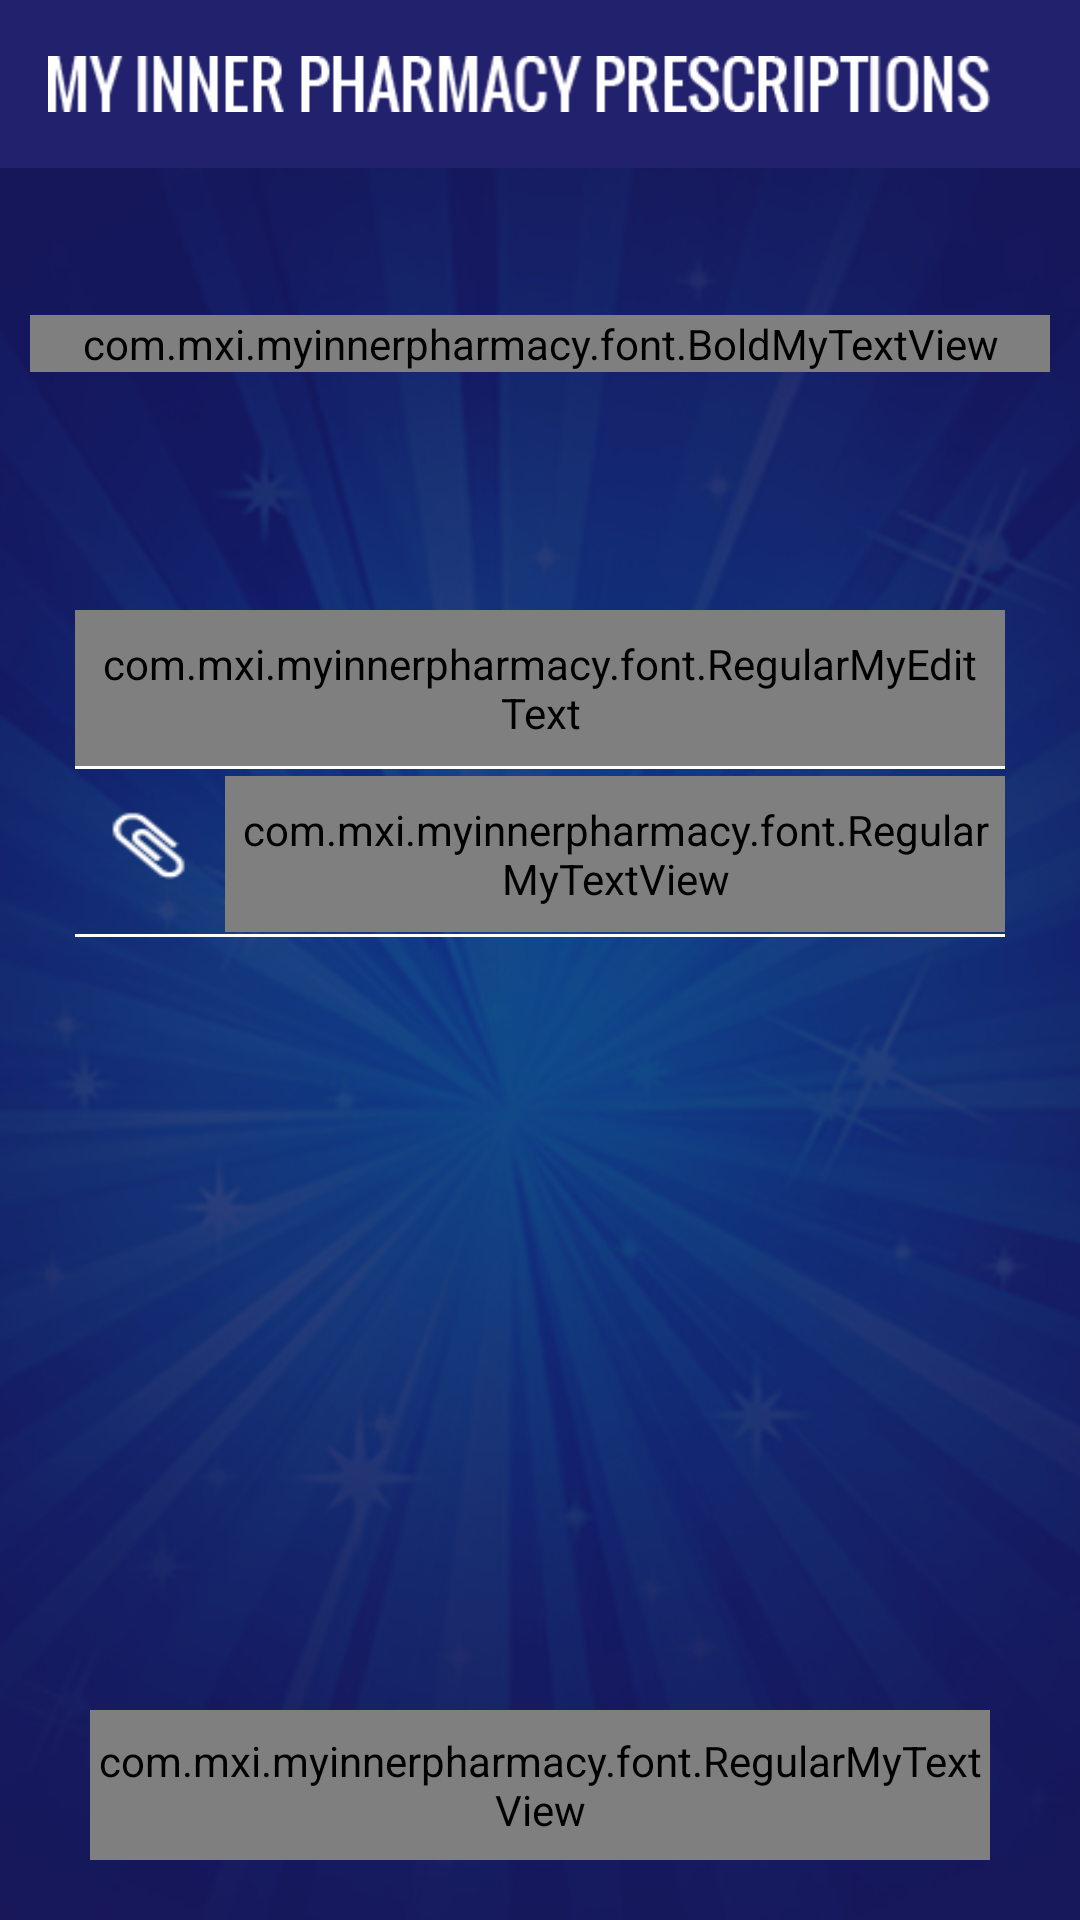

Icon bounding boxes for this 1080 × 1920 phone screenshot, format detection(x1, y1, x2, y2):
audiovidiopin: detection(112, 812, 185, 880)
